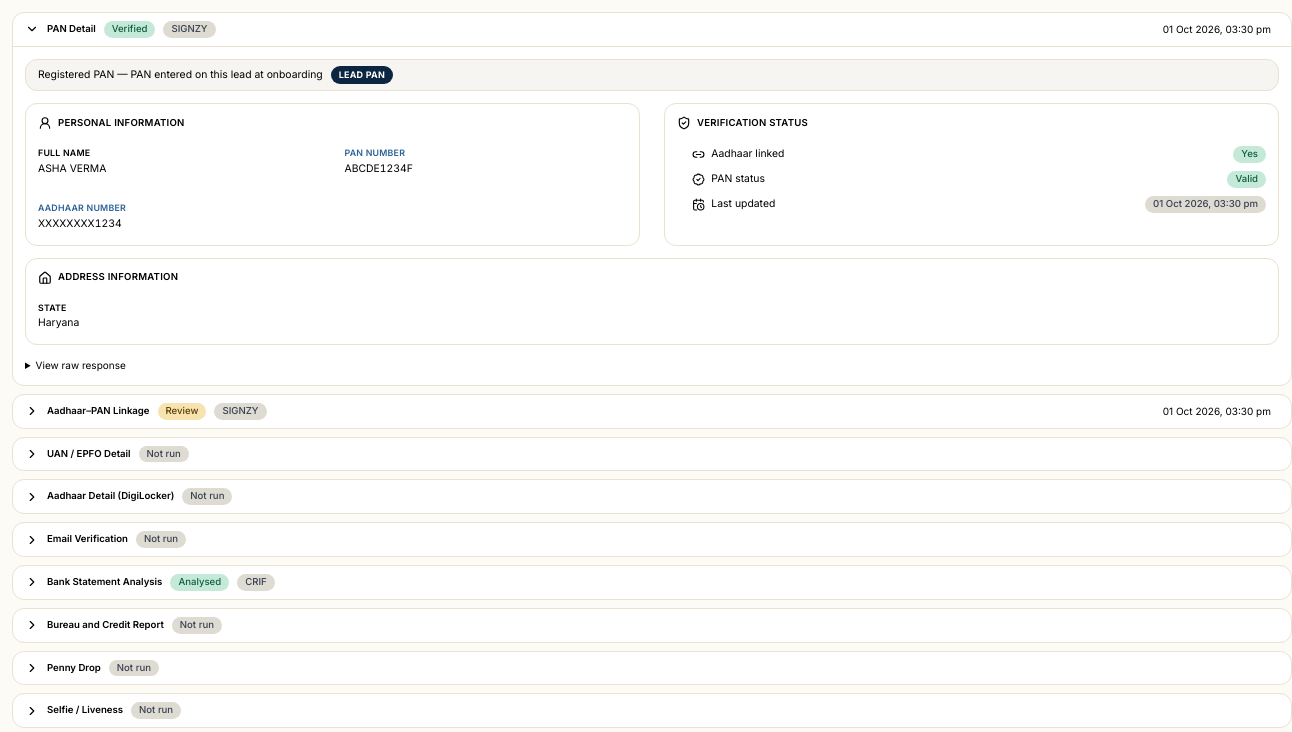
Third-party tab › shows the CRIF report analysis under Bank Statement Analysis while the analyser is not live
Expected: the text "Personal Information" is shown, [58, 117, 185, 130]
Click the text "Bank Statement Analysis" at [105, 582], box [47, 576, 162, 589]
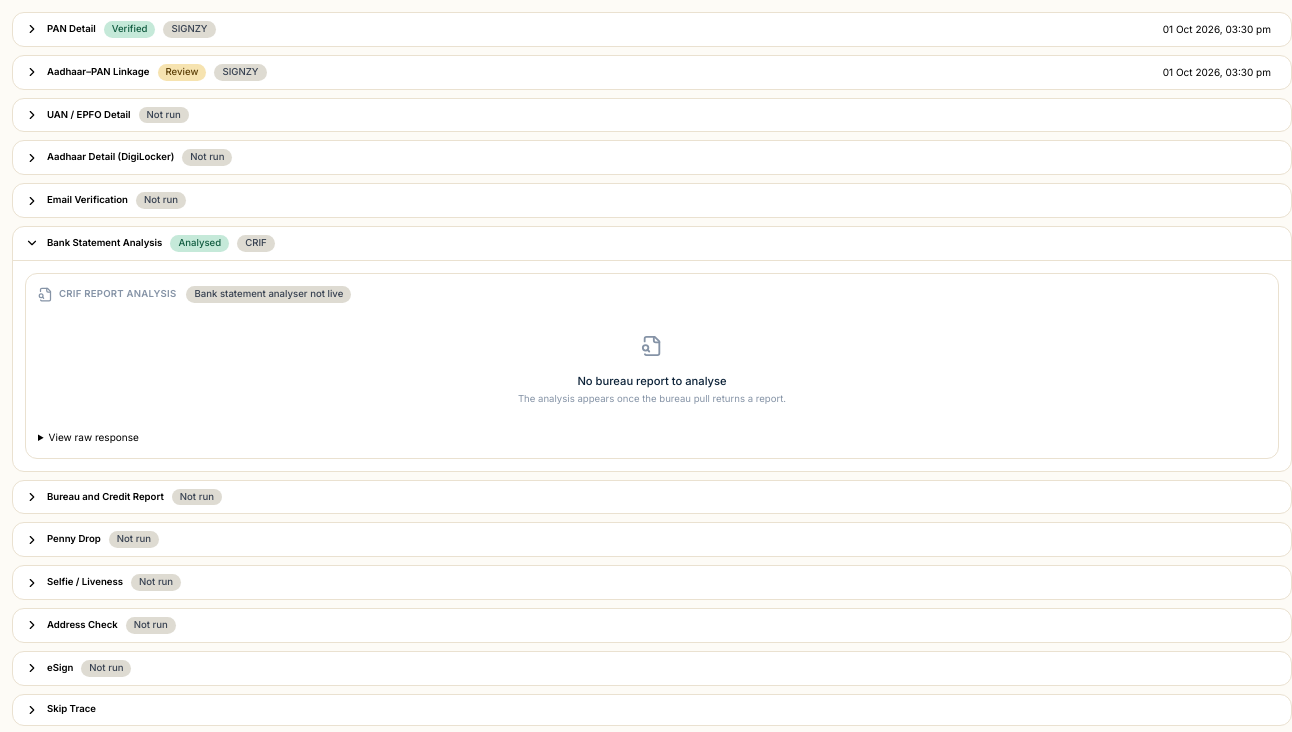
Expected: the text "Analysed" is shown, [170, 235, 229, 252]
Result: the text "CRIF report analysis" is shown at [59, 288, 176, 301]
Result: the text "No bureau report to analyse" is shown at [577, 374, 727, 388]
